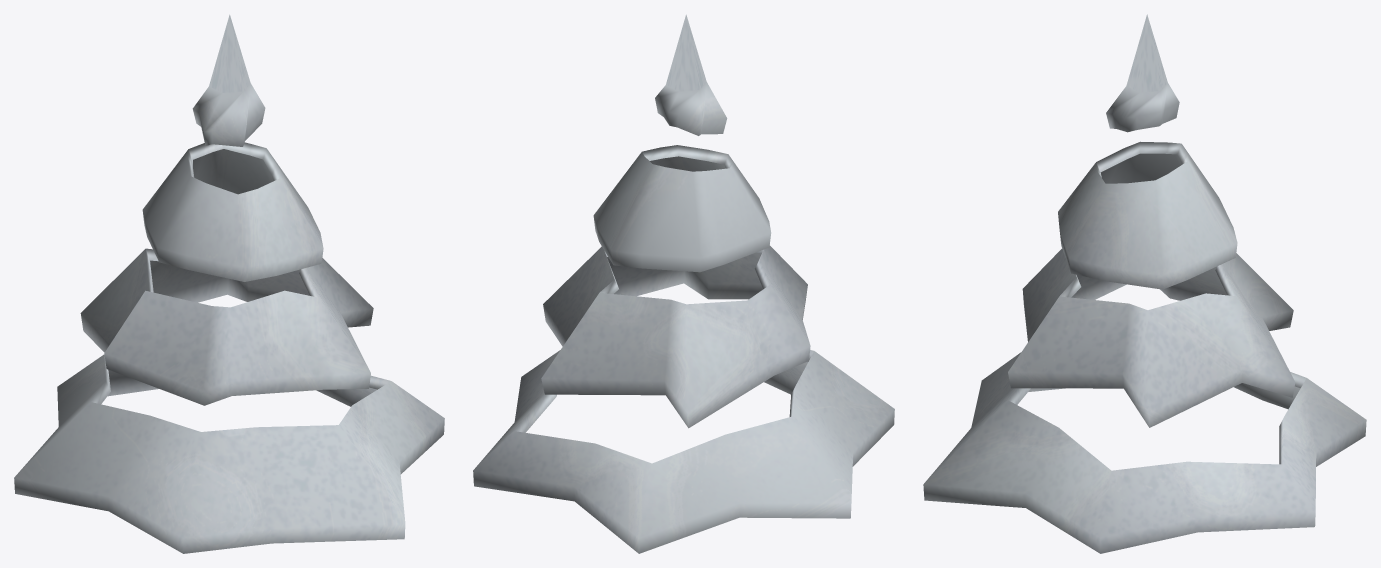
File: PineTree_2_Snow.fbx
The picture shows the model from 3 angles, left to right: view 1: azimuth 30°, elevation 25°; view 2: azimuth 150°, elevation 25°; view 3: azimuth 270°, elevation 25°; orthographic projection.
Parts seen in each view (by area): view 1: PineTree_2_Snow_LOD0; view 2: PineTree_2_Snow_LOD0; view 3: PineTree_2_Snow_LOD0.
Boxes of the visible parts, x1,y1,x2,y2 form: PineTree_2_Snow_LOD0: [14, 14, 444, 553]; PineTree_2_Snow_LOD0: [473, 14, 894, 553]; PineTree_2_Snow_LOD0: [923, 14, 1366, 553].
Size of what is drawn, in the model's own units: 377 by 430 by 379.
